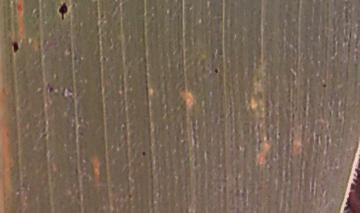tarspot: (54, 1, 70, 23), (7, 39, 22, 55), (211, 64, 221, 77), (138, 148, 150, 158), (320, 80, 329, 91)
